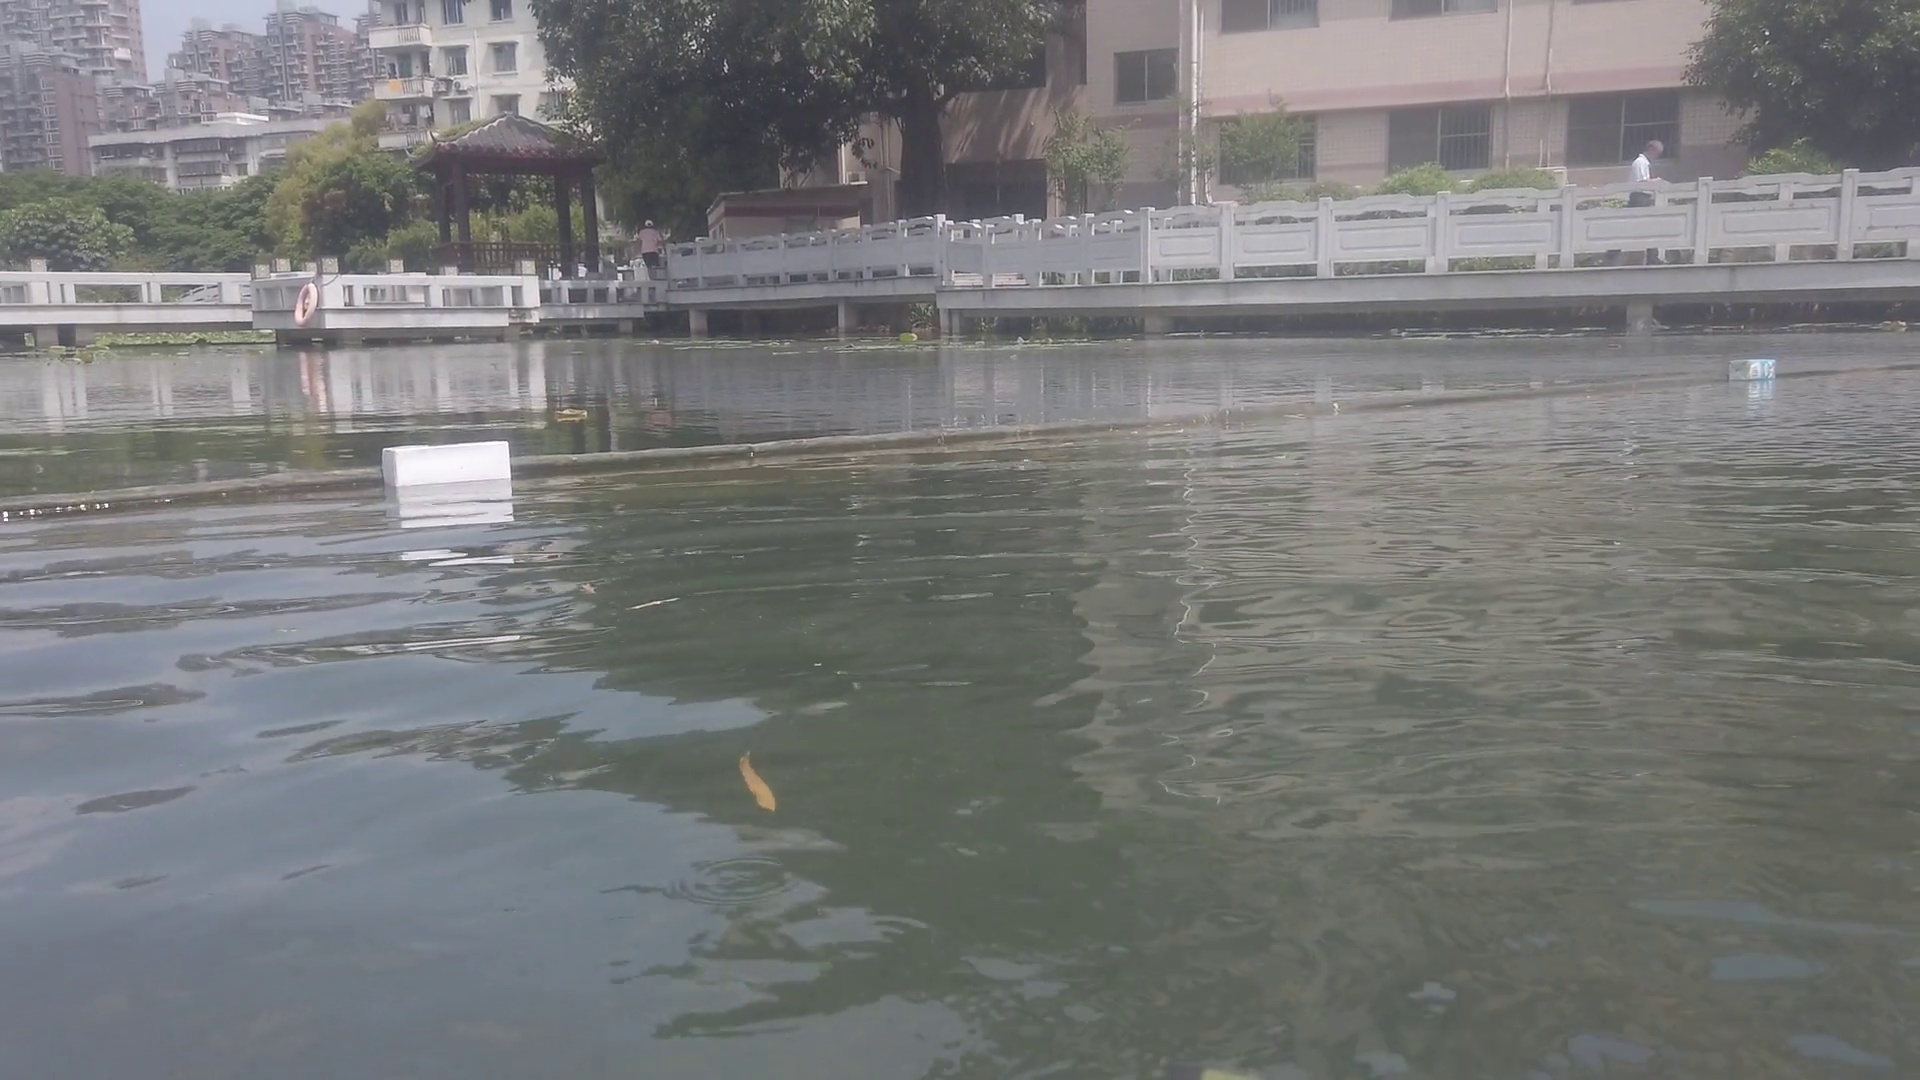carton: (375, 433, 520, 487), (1724, 352, 1778, 382)
